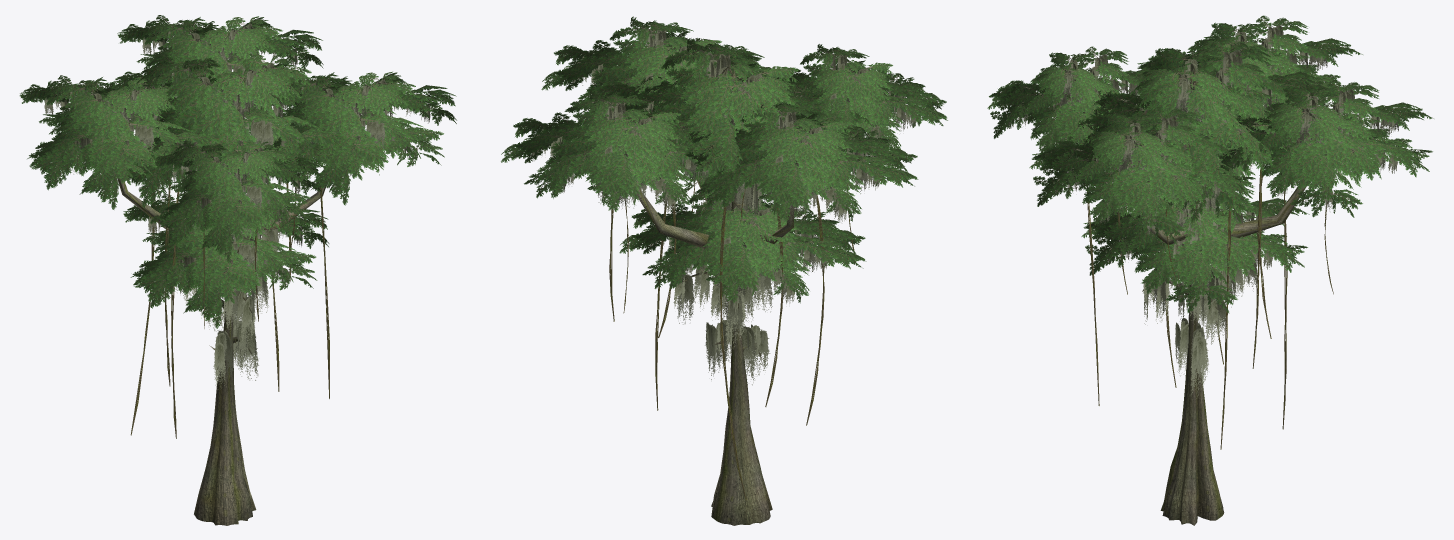
Rendered from jungle_tree.glb.
3 renders of one model, left to right at view 1: azimuth 30°, elevation 25°; view 2: azimuth 150°, elevation 25°; view 3: azimuth 270°, elevation 25°, orthographic. The views are drawn at different scales.
Parts seen in each view (by area): view 1: bald_cypress_03:Mesh_bald_cypress_03:Leaves_4_0_29, bald_cypress_03:Mesh_bald_cypress_03:Leaves_4_0.004_47, bald_cypress_03:Mesh_bald_cypress_03:Leaves_4_0.005_48, bald_cypress_03:Mesh_bald_cypress_03:Leaves_4_0.002_45, bald_cypress_03:Mesh_bald_cypress_03:Leaves_4_0.003_46, bald_cypress_03:Mesh_bald_cypress_03:Leaves_4_0.001_44, cypres_chauve_cypreschauve_bark_D_cypreschauve_bark_D_0_2, cypres_chauve_CypresChauve_mousse_D_CypresChauve_mousse_D_0_, pCylinder8_Vine01_0.012_24; view 2: bald_cypress_03:Mesh_bald_cypress_03:Leaves_4_0.004_47, bald_cypress_03:Mesh_bald_cypress_03:Leaves_4_0.001_44, bald_cypress_03:Mesh_bald_cypress_03:Leaves_4_0.003_46, bald_cypress_03:Mesh_bald_cypress_03:Leaves_4_0_29, bald_cypress_03:Mesh_bald_cypress_03:Leaves_4_0.002_45, bald_cypress_03:Mesh_bald_cypress_03:Leaves_4_0.005_48, cypres_chauve_cypreschauve_bark_D_cypreschauve_bark_D_0_2, cypres_chauve_CypresChauve_mousse_D_CypresChauve_mousse_D_0_, bald_cypress_03:Mesh_bald_cypress_03:Branches_3_0_59, pCylinder8_Vine01_0.007_19, pCylinder8_Vine01_0.008_20; view 3: bald_cypress_03:Mesh_bald_cypress_03:Leaves_4_0_29, bald_cypress_03:Mesh_bald_cypress_03:Leaves_4_0.005_48, bald_cypress_03:Mesh_bald_cypress_03:Leaves_4_0.001_44, bald_cypress_03:Mesh_bald_cypress_03:Leaves_4_0.003_46, bald_cypress_03:Mesh_bald_cypress_03:Leaves_4_0.002_45, bald_cypress_03:Mesh_bald_cypress_03:Leaves_4_0.004_47, cypres_chauve_cypreschauve_bark_D_cypreschauve_bark_D_0_2, cypres_chauve_CypresChauve_mousse_D_CypresChauve_mousse_D_0_, bald_cypress_03:Mesh_bald_cypress_03:Branches_3_0_59, pCylinder8_Vine01_0.011_23, pCylinder8_Vine01_0.007_19.
Boxes of the visible parts, x1,y1,x2,y2 form: bald_cypress_03:Mesh_bald_cypress_03:Leaves_4_0_29: [110, 53, 357, 208]; bald_cypress_03:Mesh_bald_cypress_03:Leaves_4_0.004_47: [19, 75, 212, 209]; bald_cypress_03:Mesh_bald_cypress_03:Leaves_4_0.005_48: [272, 71, 456, 205]; bald_cypress_03:Mesh_bald_cypress_03:Leaves_4_0.002_45: [154, 140, 321, 262]; bald_cypress_03:Mesh_bald_cypress_03:Leaves_4_0.003_46: [123, 193, 329, 328]; bald_cypress_03:Mesh_bald_cypress_03:Leaves_4_0.001_44: [117, 15, 323, 120]; cypres_chauve_cypreschauve_bark_D_cypreschauve_bark_D_0_2: [194, 75, 256, 525]; cypres_chauve_CypresChauve_mousse_D_CypresChauve_mousse_D_0_: [180, 121, 278, 389]; pCylinder8_Vine01_0.012_24: [319, 173, 329, 398]; bald_cypress_03:Mesh_bald_cypress_03:Leaves_4_0.004_47: [676, 102, 918, 221]; bald_cypress_03:Mesh_bald_cypress_03:Leaves_4_0.001_44: [501, 89, 740, 214]; bald_cypress_03:Mesh_bald_cypress_03:Leaves_4_0.003_46: [619, 192, 866, 303]; bald_cypress_03:Mesh_bald_cypress_03:Leaves_4_0_29: [588, 38, 872, 206]; bald_cypress_03:Mesh_bald_cypress_03:Leaves_4_0.002_45: [764, 44, 947, 152]; bald_cypress_03:Mesh_bald_cypress_03:Leaves_4_0.005_48: [541, 16, 771, 124]; cypres_chauve_cypreschauve_bark_D_cypreschauve_bark_D_0_2: [681, 67, 772, 525]; cypres_chauve_CypresChauve_mousse_D_CypresChauve_mousse_D_0_: [673, 183, 773, 385]; bald_cypress_03:Mesh_bald_cypress_03:Branches_3_0_59: [637, 189, 708, 248]; pCylinder8_Vine01_0.007_19: [720, 205, 746, 500]; pCylinder8_Vine01_0.008_20: [806, 194, 824, 425]; bald_cypress_03:Mesh_bald_cypress_03:Leaves_4_0_29: [1068, 39, 1334, 224]; bald_cypress_03:Mesh_bald_cypress_03:Leaves_4_0.005_48: [1029, 106, 1255, 244]; bald_cypress_03:Mesh_bald_cypress_03:Leaves_4_0.001_44: [1216, 80, 1433, 217]; bald_cypress_03:Mesh_bald_cypress_03:Leaves_4_0.003_46: [1081, 184, 1309, 313]; bald_cypress_03:Mesh_bald_cypress_03:Leaves_4_0.002_45: [987, 46, 1151, 153]; bald_cypress_03:Mesh_bald_cypress_03:Leaves_4_0.004_47: [1136, 15, 1362, 122]; cypres_chauve_cypreschauve_bark_D_cypreschauve_bark_D_0_2: [1142, 69, 1224, 525]; cypres_chauve_CypresChauve_mousse_D_CypresChauve_mousse_D_0_: [1143, 199, 1257, 400]; bald_cypress_03:Mesh_bald_cypress_03:Branches_3_0_59: [1231, 138, 1307, 237]; pCylinder8_Vine01_0.011_23: [1220, 204, 1231, 449]; pCylinder8_Vine01_0.007_19: [1282, 190, 1287, 429].
Size of the model in its own units: 29.58 by 31.51 by 28.31.
9 materials, 9 textured.
